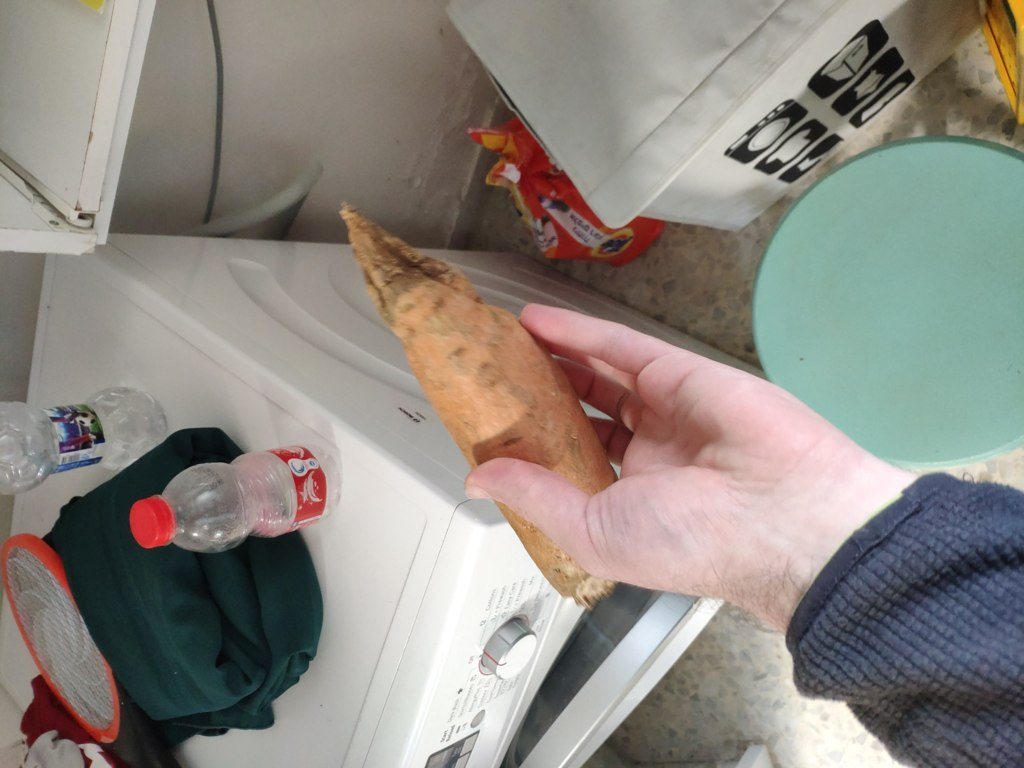Sweet Potato: (437, 337, 652, 586)
